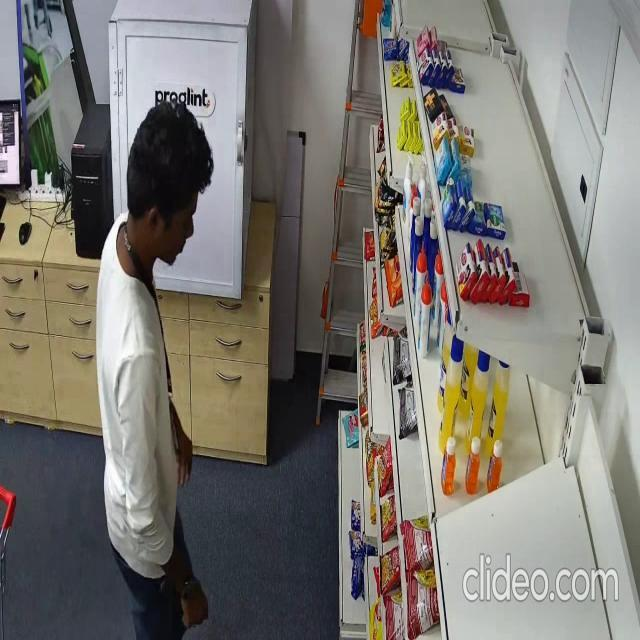normal: (93, 102, 214, 640)
